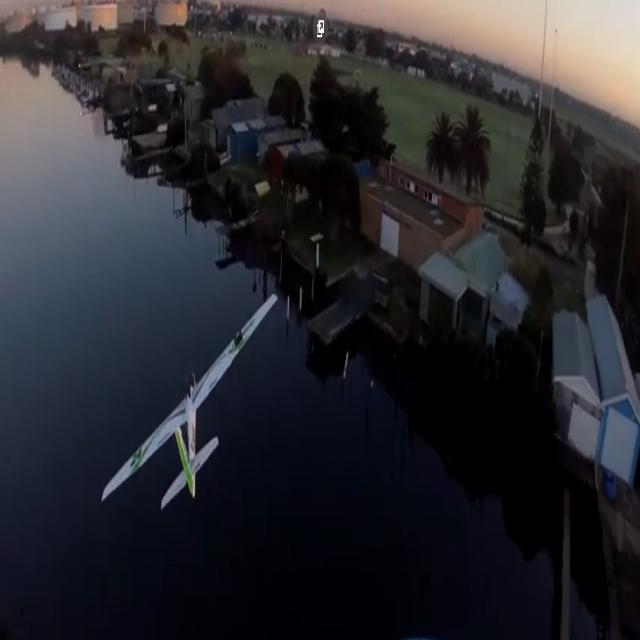iha: (102, 290, 279, 514)
